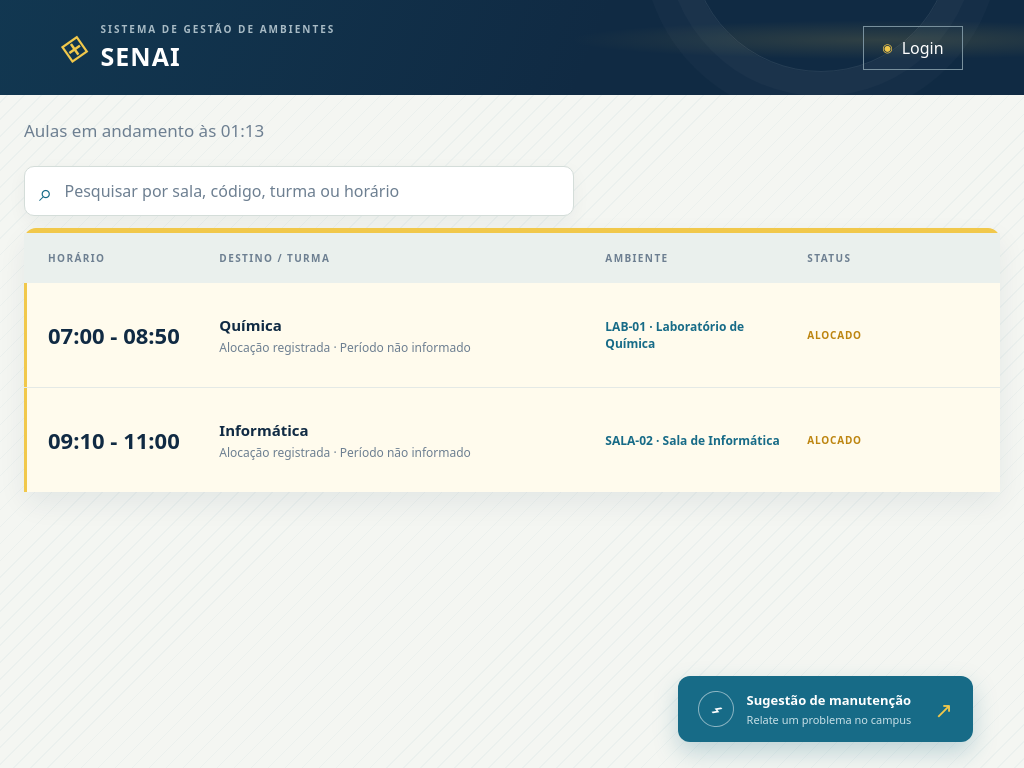
it: filters room rows by room name without requiring accents
Expected: the text "LAB-01 · Laboratório de Química" is shown, [605,318,744,352]
Expected: the text "SALA-02 · Sala de Informática" is shown, [605,432,789,448]
Type "laboratorio" into the search field named "Pesquisar salas".
click(311, 191); type("laboratorio")  # box [62,167,559,215]
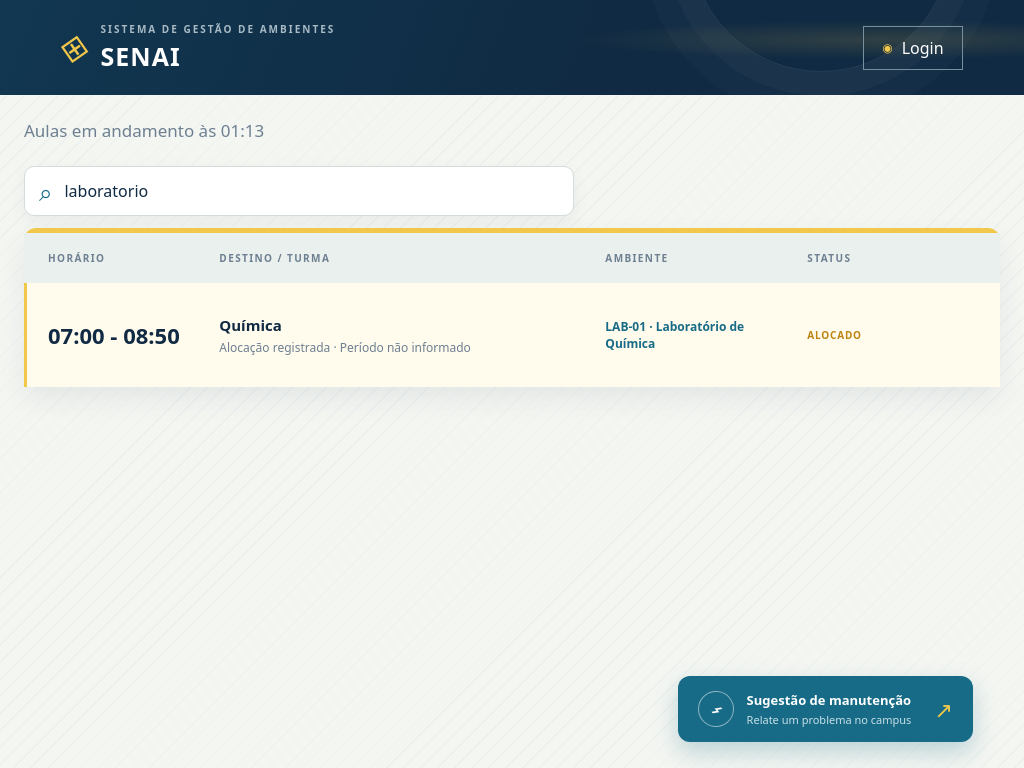
Expected: the text "LAB-01 · Laboratório de Química" is shown, [605,318,744,352]
Expected: the text "SALA-02 · Sala de Informática" is gone
